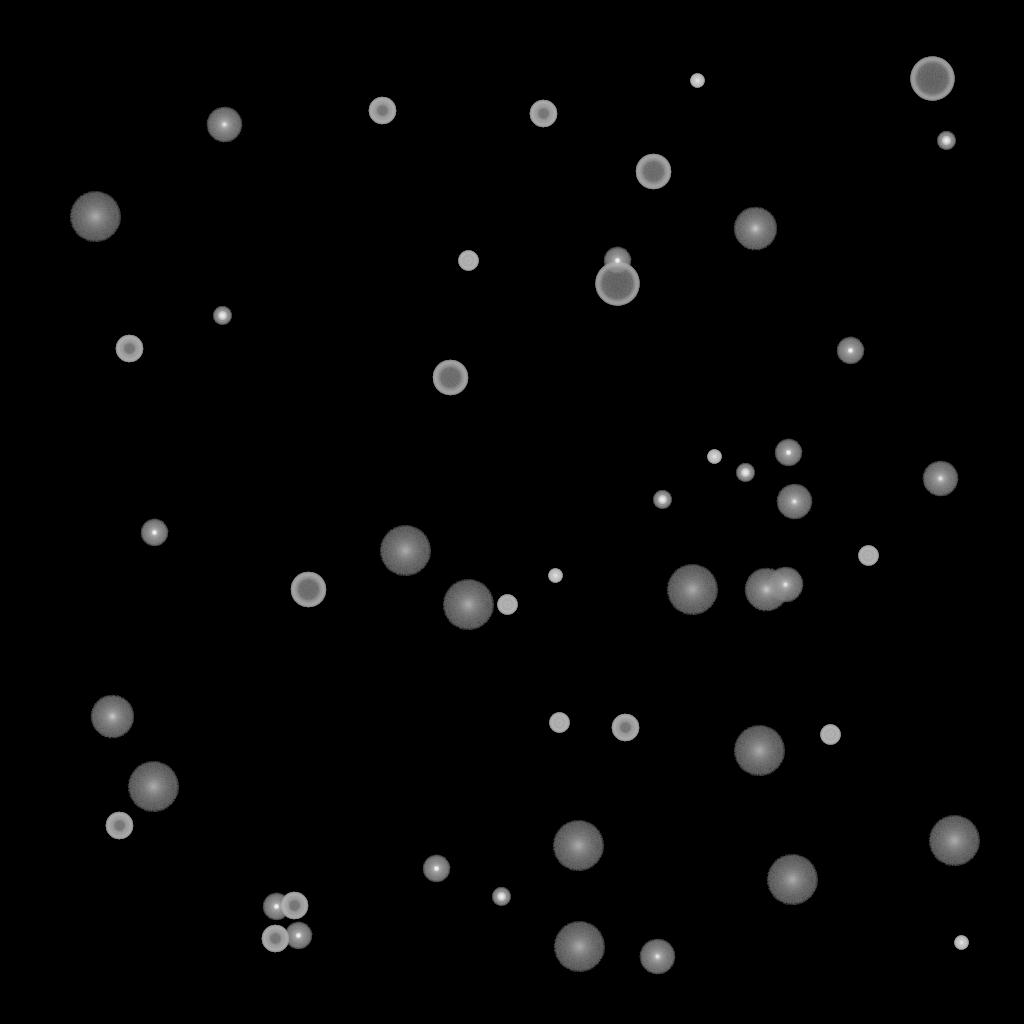depth:-10: (262, 893, 290, 921), (836, 337, 864, 365), (422, 855, 450, 883), (774, 439, 802, 467), (603, 247, 631, 275), (284, 922, 312, 950), (140, 519, 168, 547)
depth:-20: (213, 307, 231, 325), (736, 464, 754, 482), (937, 132, 955, 150), (492, 888, 510, 906), (653, 491, 671, 509)
depth:-30: (548, 569, 562, 583), (707, 450, 721, 464), (690, 74, 704, 88), (954, 936, 968, 950)
depth:-40: (820, 725, 840, 745), (858, 546, 878, 566), (497, 595, 517, 615), (458, 251, 478, 271), (549, 713, 569, 733)
depth:-50: (529, 100, 557, 128), (611, 714, 639, 742), (280, 892, 308, 920), (368, 97, 396, 125), (115, 335, 143, 363), (261, 925, 289, 953), (105, 812, 133, 840)
depth:-60: (432, 360, 468, 396), (290, 572, 326, 608), (635, 154, 671, 190)
depth:-70: (910, 57, 954, 101), (595, 262, 639, 306)
depth:0: (922, 461, 958, 497), (206, 107, 242, 143), (767, 567, 803, 603), (776, 484, 812, 520), (639, 939, 675, 975)
depth:10: (90, 695, 134, 739), (744, 568, 788, 612), (733, 207, 777, 251)
depth:20: (69, 192, 121, 242), (928, 816, 980, 866), (733, 726, 785, 776), (552, 821, 604, 871), (127, 762, 179, 812), (442, 580, 494, 630), (379, 526, 431, 576), (553, 922, 605, 972), (766, 855, 818, 905), (666, 565, 718, 615)
